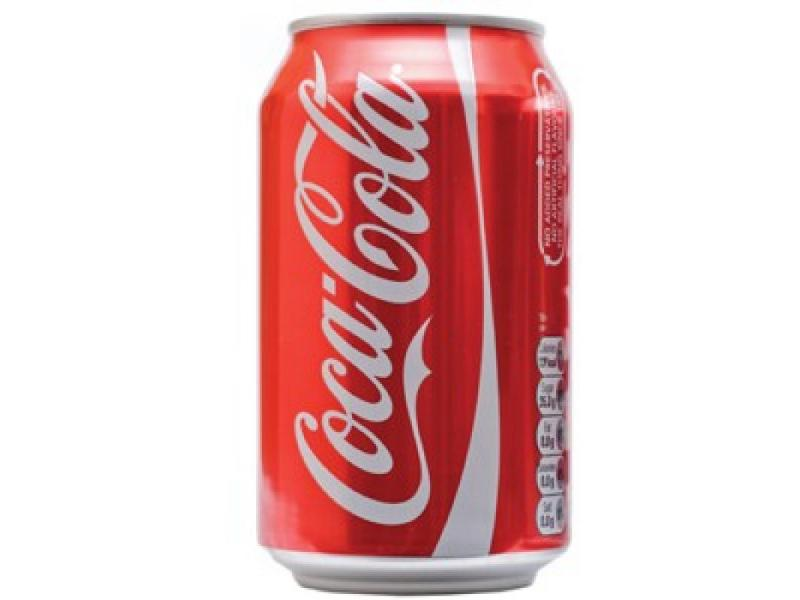can: (256, 10, 574, 600)
